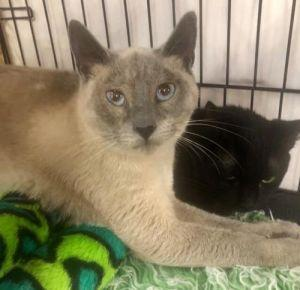siamese: (62, 8, 207, 165)
